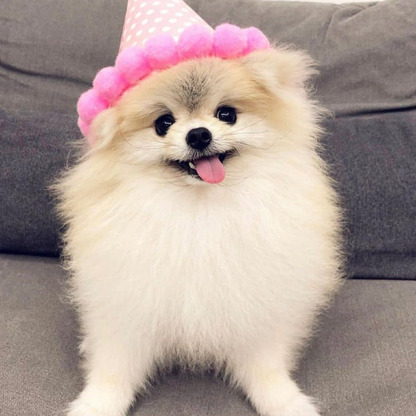Pomeranian: (79, 47, 341, 368)
